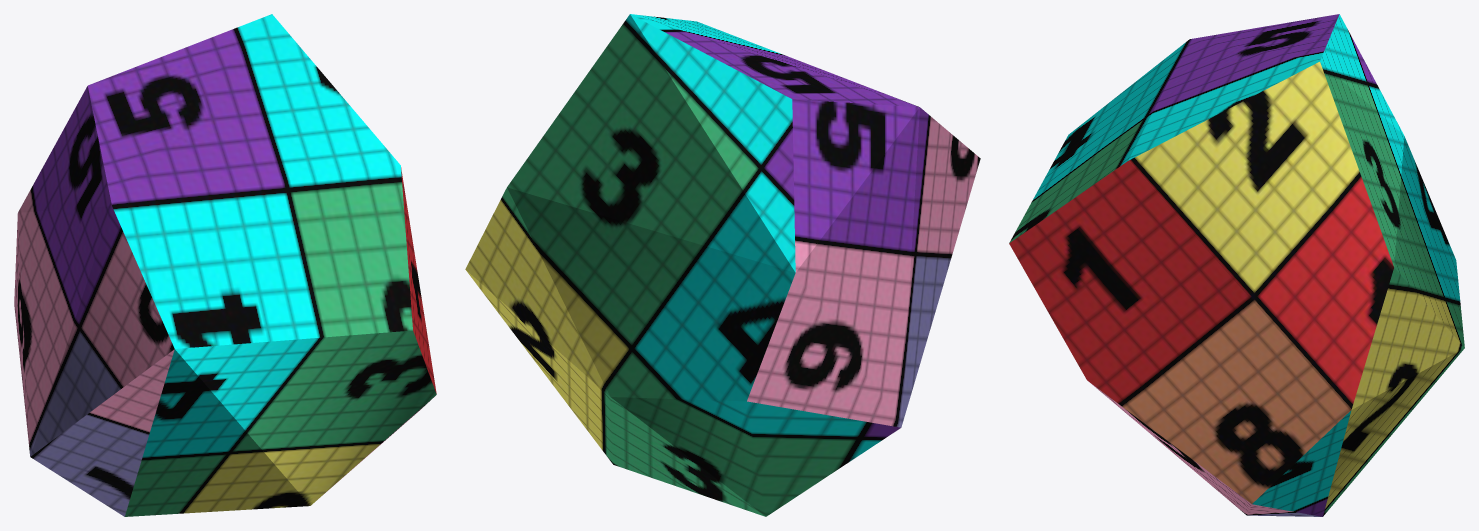
File: lprock9.FBX
3 renders of one model, left to right at view 1: azimuth 30°, elevation 25°; view 2: azimuth 150°, elevation 25°; view 3: azimuth 270°, elevation 25°, orthographic. The views are drawn at different scales.
Visible parts, largest first — view 1: rock9; view 2: rock9; view 3: rock9.
Boxes of the visible parts, <box> form: rock9: <box>14,14,436,516</box>; rock9: <box>465,14,980,516</box>; rock9: <box>1009,14,1464,516</box>.
Bounding box in the file's own units: 158 × 172 × 157.
Materials: 1 (1 with a texture image).
